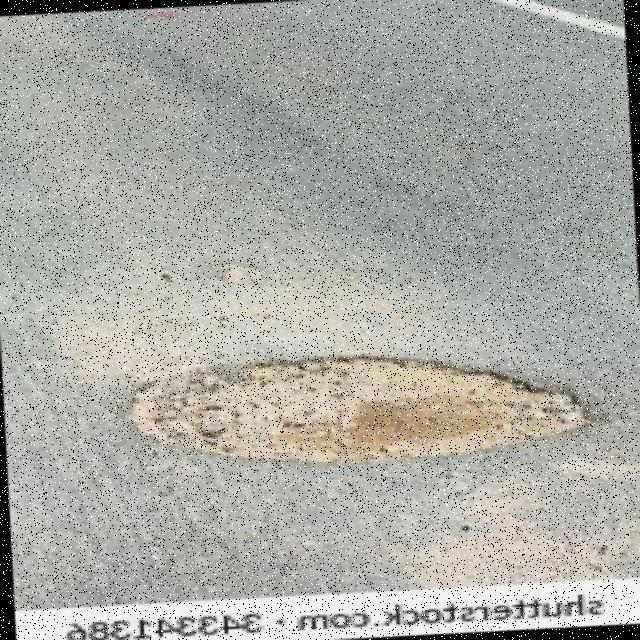Pothole: (128, 355, 593, 467)
